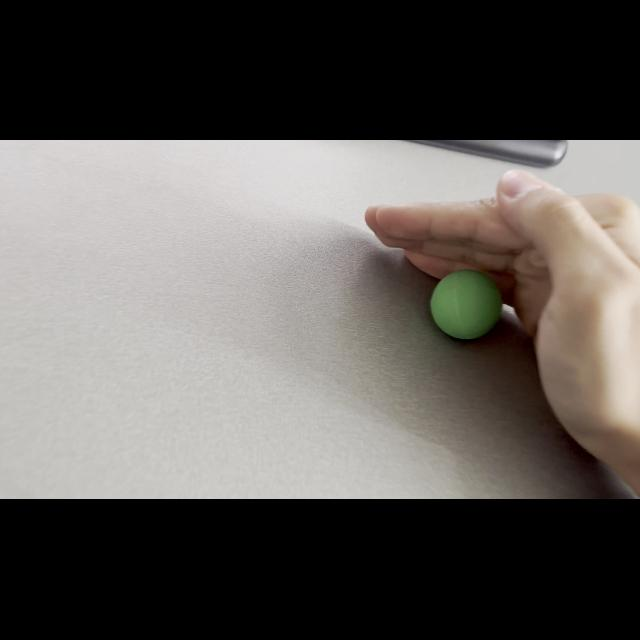objects: (426, 266, 504, 344)
